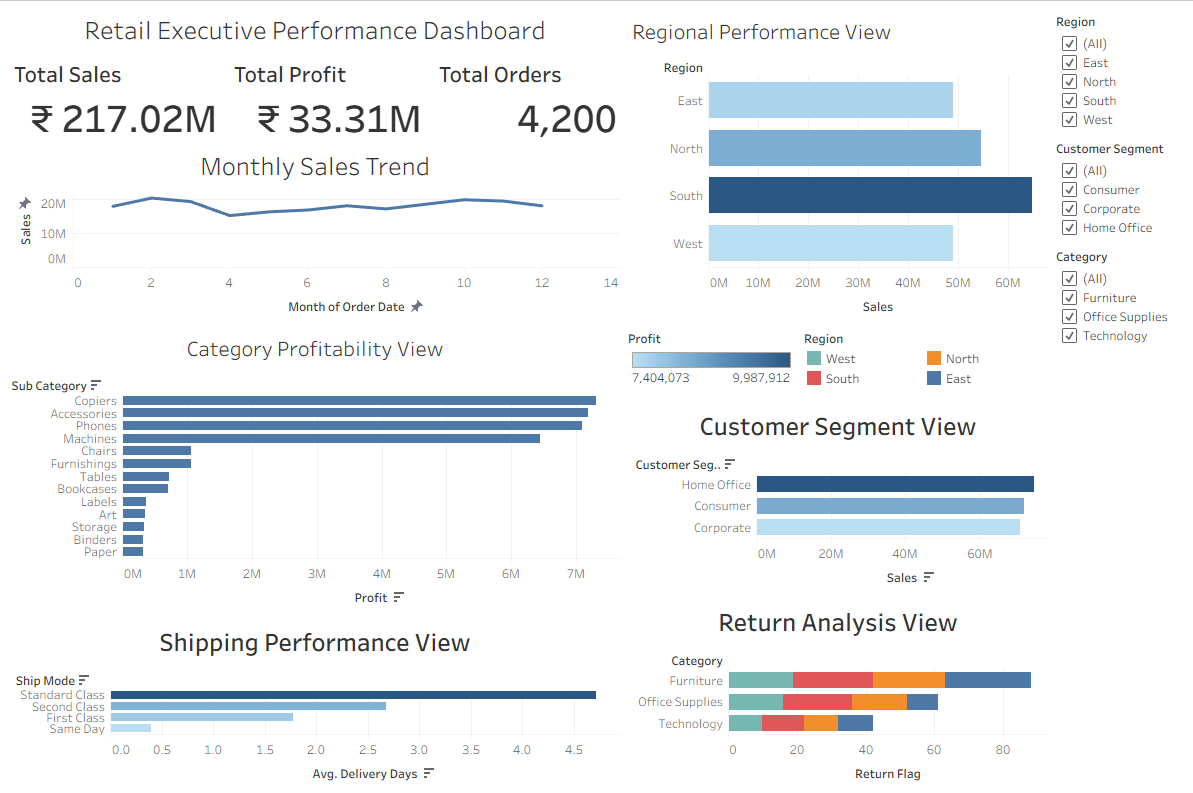

What the dashboard file says about the page in this screenshot:
{"tool":"tableau","page":{"name":"Dashboard 1","canvas":[1000,1000],"units":"permille","ordinal":0},"visuals":[{"type":"title","box":[6.7,10,844.2,48.8]},{"type":"filter","title":"Regional Performance View","param":"[federated.1ubus5j0cay6a9157hhae0eafcrc].[none:region:nk]","box":[850.8,10,142.5,158.8]},{"type":"worksheet","title":"KPI - Total Sales","mark":"Automatic","box":[6.7,58.8,173.3,148.8]},{"type":"worksheet","title":"KPI - Total Profit","mark":"Automatic","box":[180,58.8,153.3,148.8]},{"type":"worksheet","title":"KPI - Total Orders","mark":"Automatic","box":[333.3,58.8,147.3,148.8]},{"type":"worksheet","title":"Regional Performance View","mark":"Automatic","rows":["region"],"cols":["sales"],"box":[480.7,58.8,370.2,273.8]},{"type":"filter","title":"Category Profitability View","param":"[federated.1ubus5j0cay6a9157hhae0eafcrc].[none:category:nk]","box":[850.8,168.8,142.5,135]},{"type":"worksheet","title":"Sales Trend View","mark":"Automatic","rows":["sales"],"cols":["order_date"],"box":[6.7,207.5,474,186.2]},{"type":"filter","title":"Customer Segment View","param":"[federated.1ubus5j0cay6a9157hhae0eafcrc].[none:customer_segment:nk]","box":[850.8,303.8,142.5,135]},{"type":"legend","title":"Shipping Performance View","param":"[federated.1ubus5j0cay6a9157hhae0eafcrc].[sum:profit:qk]","box":[480.7,332.5,370.2,101.2]},{"type":"worksheet","title":"Category Profitability View","mark":"Automatic","rows":["sub_category"],"cols":["profit"],"box":[6.7,393.8,474,322.5]},{"type":"worksheet","title":"Customer Segment View","mark":"Bar","rows":["customer_segment"],"cols":["sales"],"box":[480.7,433.8,370.2,252.5]},{"type":"worksheet","title":"Return Analysis View","mark":"Bar","rows":["category"],"cols":["return_flag"],"box":[480.7,686.2,370.2,233.8]},{"type":"worksheet","title":"Shipping Performance View","mark":"Automatic","rows":["ship_mode"],"cols":["delivery_days"],"box":[6.7,716.2,474,273.8]},{"type":"legend","title":"Return Analysis View","param":"[federated.1ubus5j0cay6a9157hhae0eafcrc].[none:region:nk]","box":[480.7,920,370.2,70]}]}

Visuals, with their boxes on the dashboard's canvas, which has no fixed pixel size, in thousandths of its width and height (x1, y1, x2, y2). These are canvas units, not pixel positions in the 1193x793 screenshot, which may show the page scaled, cropped or inside an application window:
title: locate(7, 10, 851, 59)
"Regional Performance View" filter: locate(851, 10, 993, 169)
"KPI - Total Sales" worksheet: locate(7, 59, 180, 208)
"KPI - Total Profit" worksheet: locate(180, 59, 333, 208)
"KPI - Total Orders" worksheet: locate(333, 59, 481, 208)
"Regional Performance View" worksheet: locate(481, 59, 851, 333)
"Category Profitability View" filter: locate(851, 169, 993, 304)
"Sales Trend View" worksheet: locate(7, 208, 481, 394)
"Customer Segment View" filter: locate(851, 304, 993, 439)
"Shipping Performance View" legend: locate(481, 332, 851, 434)
"Category Profitability View" worksheet: locate(7, 394, 481, 716)
"Customer Segment View" worksheet (Bar marks): locate(481, 434, 851, 686)
"Return Analysis View" worksheet (Bar marks): locate(481, 686, 851, 920)
"Shipping Performance View" worksheet: locate(7, 716, 481, 990)
"Return Analysis View" legend: locate(481, 920, 851, 990)
